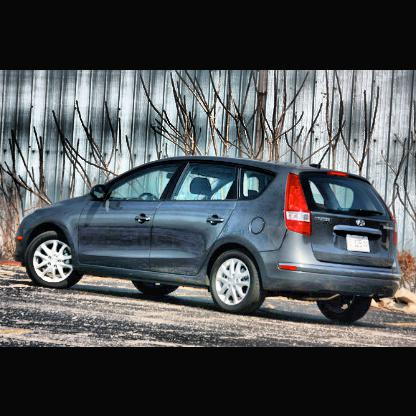Hyundai Elantra Touring Hatchback 2012: (14, 156, 405, 327)
